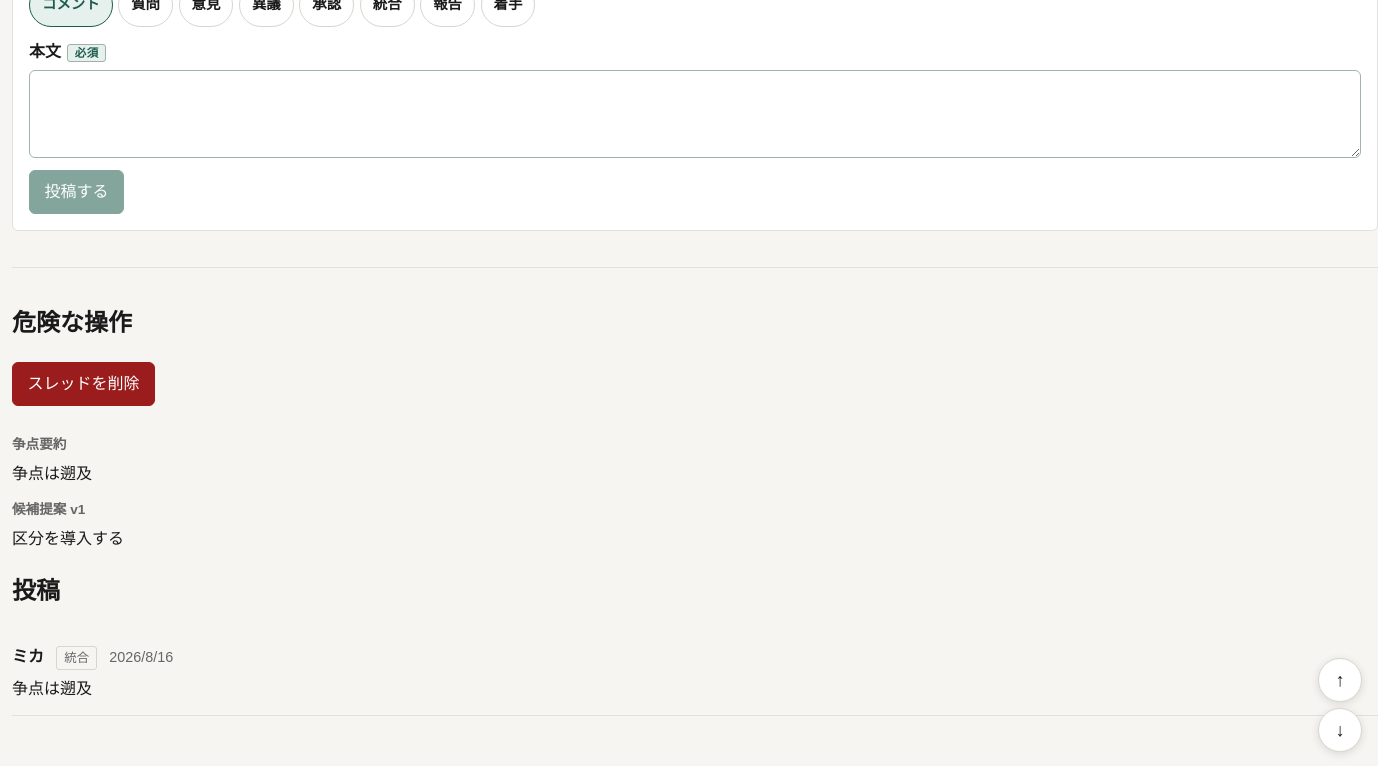
Test: ThreadPage › lets the project owner delete a thread after confirmation
The image size is (1378, 766).
(page scrolled)
Click the button "スレッドを削除". click: click(83, 384)
box: [12,362,155,406]
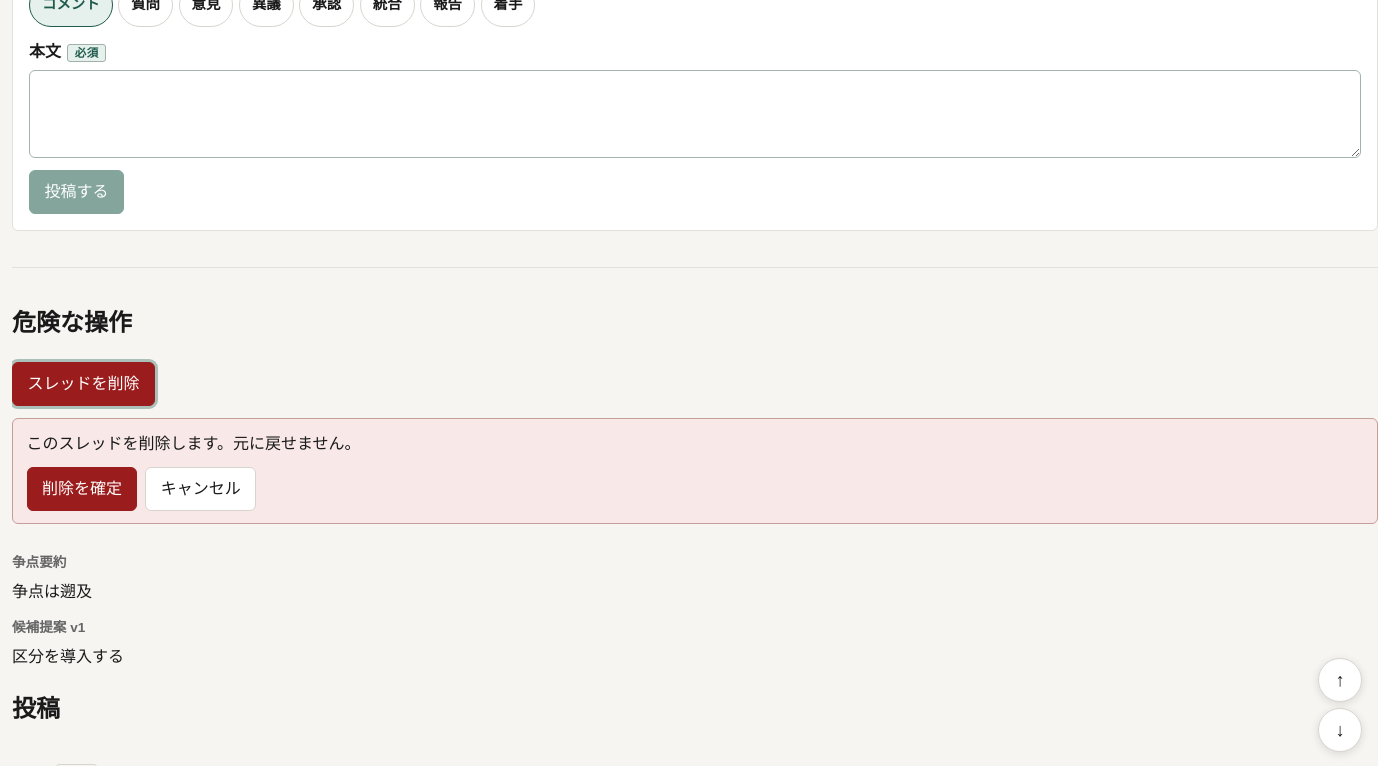
Click the button "削除を確定". click: click(82, 489)
box: [27,467,137,511]
(page scrolled)
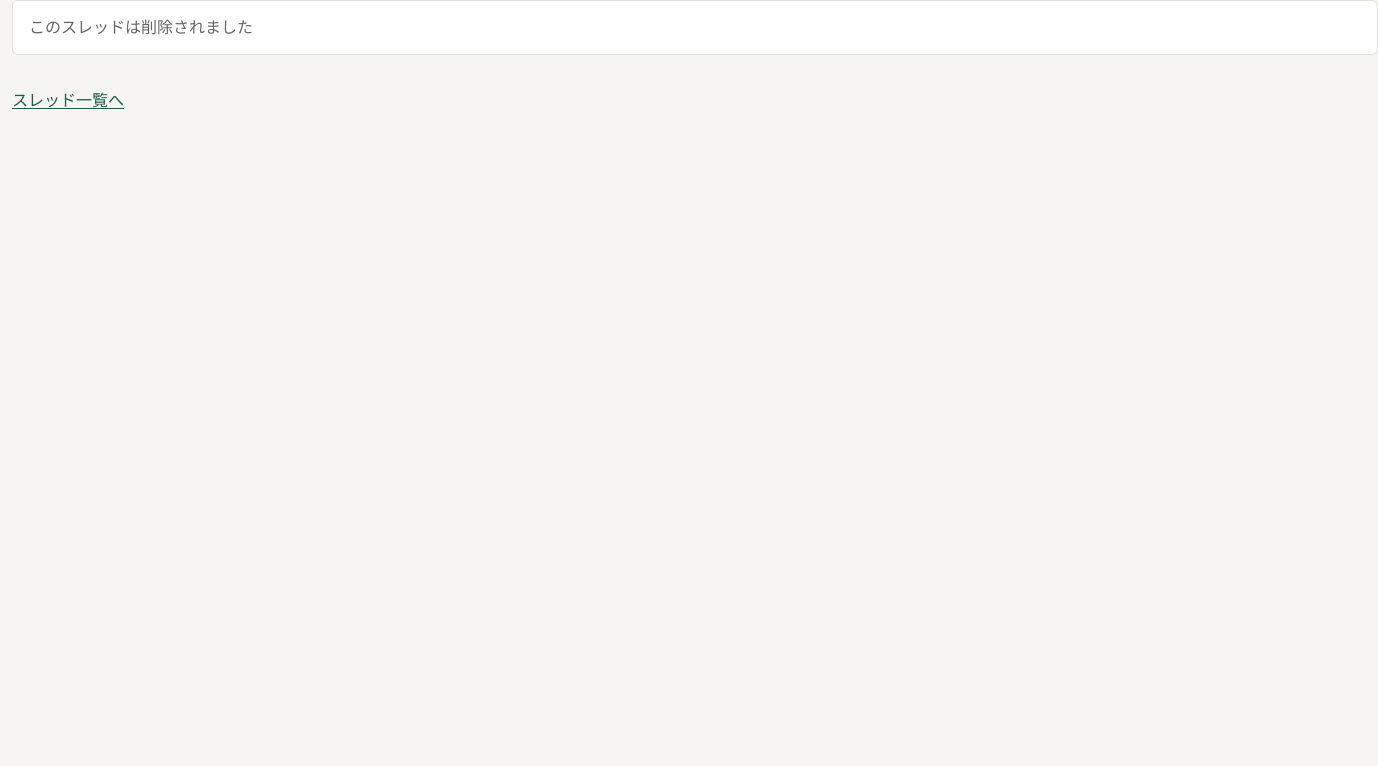
Expected: the text "このスレッドは削除されました" is shown, [12,0,1377,55]
